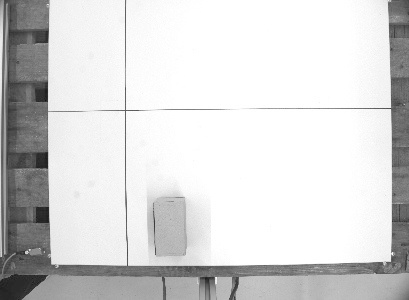b2: (150, 193, 189, 258)
